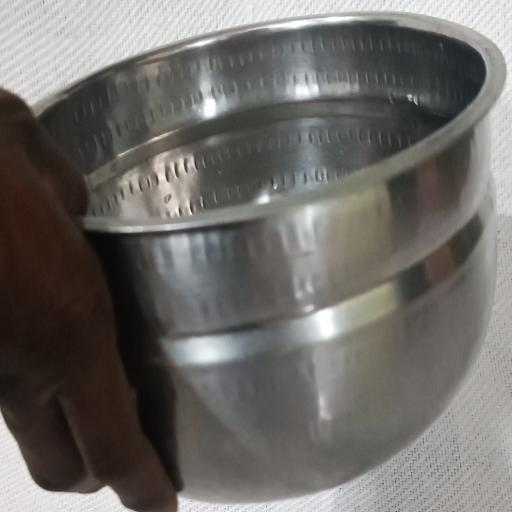vessel: (36, 13, 505, 502)
